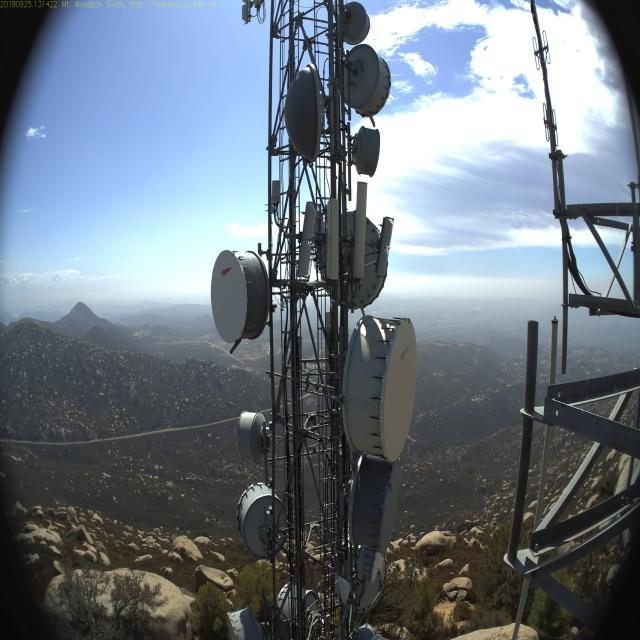smoke: (6, 302, 23, 320)
